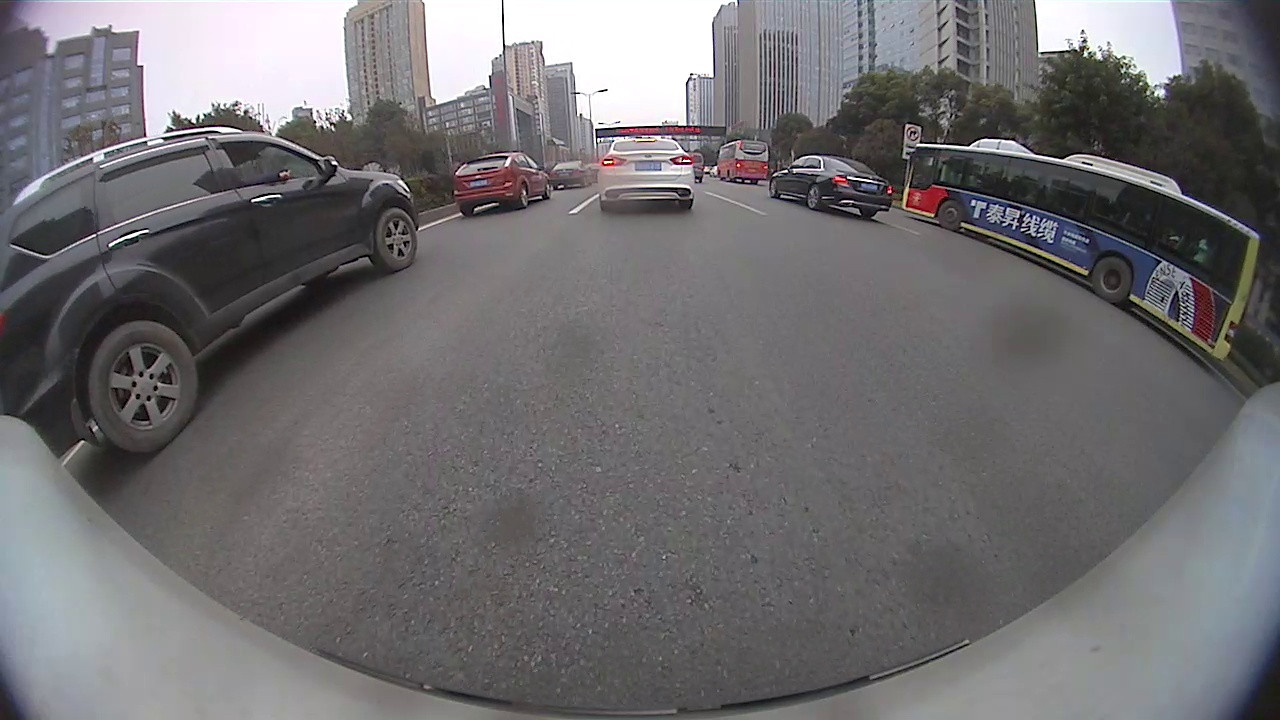bus: (900, 137, 1262, 366), (715, 138, 770, 186)
car: (1, 124, 422, 459), (768, 153, 892, 224), (596, 136, 697, 214), (451, 151, 553, 217)
front: (374, 207, 422, 274), (936, 195, 969, 233), (768, 180, 780, 200), (544, 181, 555, 200)
rear: (86, 319, 204, 457), (1093, 254, 1135, 301), (805, 185, 825, 213), (518, 183, 530, 212)
